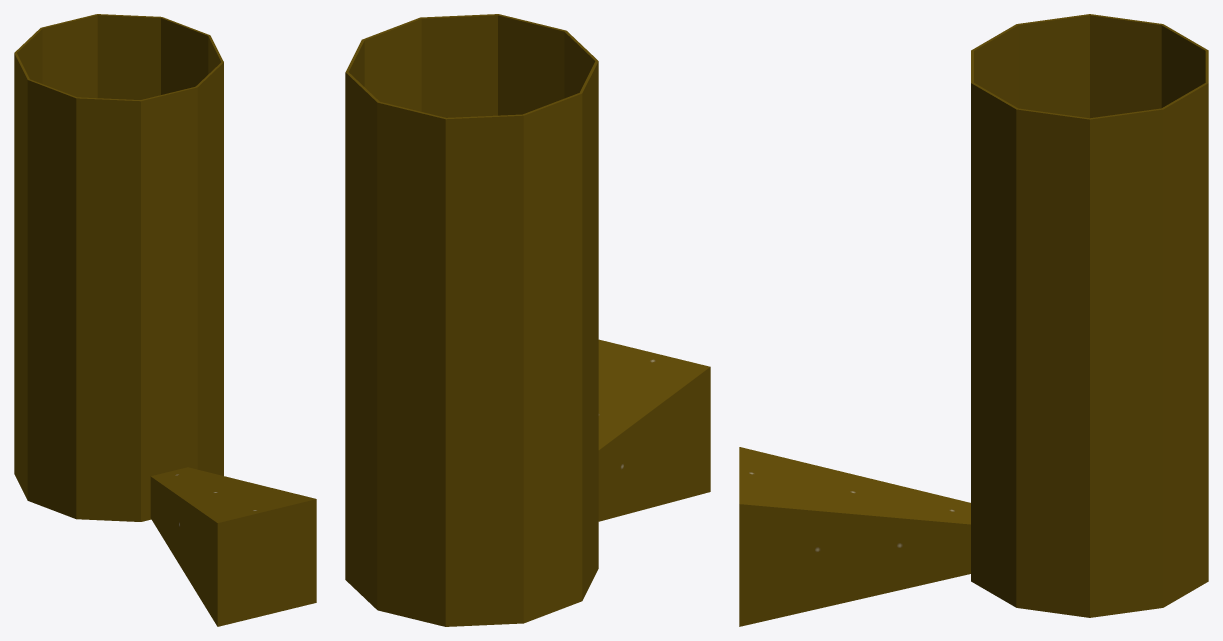
Rendered from underground.fbx.
3 views of the same model, side by side, from view 1: azimuth 30°, elevation 25°; view 2: azimuth 150°, elevation 25°; view 3: azimuth 270°, elevation 25° (orthographic). The views are drawn at different scales.
Parts seen in each view (by area): view 1: pCube6; view 2: pCube6; view 3: pCube6.
Boxes of the visible parts, x1=… form: pCube6: x1=14, y1=14, x2=316, y2=626; pCube6: x1=345, y1=14, x2=710, y2=626; pCube6: x1=739, y1=14, x2=1208, y2=626.
Size of the model in its own units: 40 by 93.9 by 75.16.
